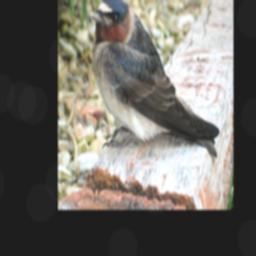Swallow: (87, 0, 222, 161)
